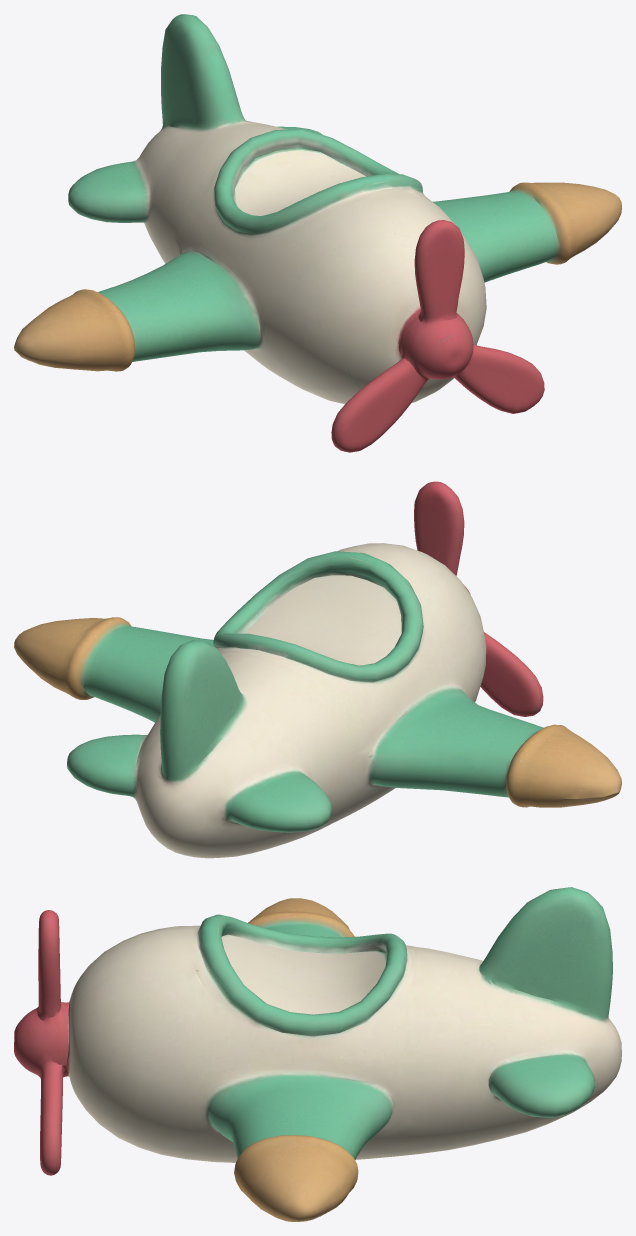
File: sky-plane.glb
3 views of the same model, one above another, from view 1: azimuth 30°, elevation 25°; view 2: azimuth 150°, elevation 25°; view 3: azimuth 270°, elevation 25° (orthographic). The views are drawn at different scales.
Visible parts, largest first — view 1: Mesh_0; view 2: Mesh_0; view 3: Mesh_0.
Part boxes in pixels (box(x1,y1,x2,y2)): Mesh_0: box(14, 14, 621, 452); Mesh_0: box(14, 481, 621, 858); Mesh_0: box(14, 887, 621, 1221).
Bounding box in the file's own units: 2.51 × 1 × 2.1.
Materials: 1 (1 with a texture image).
